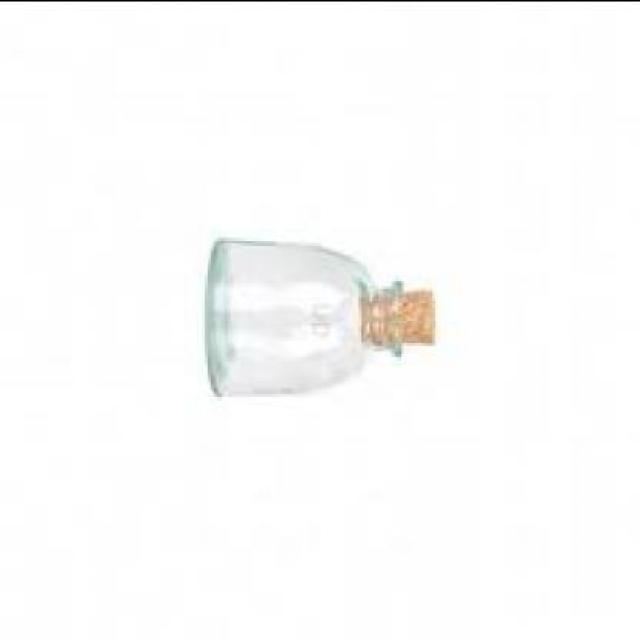GLASS: (208, 238, 374, 398)
